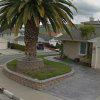Palm tree: (7, 1, 73, 61)
